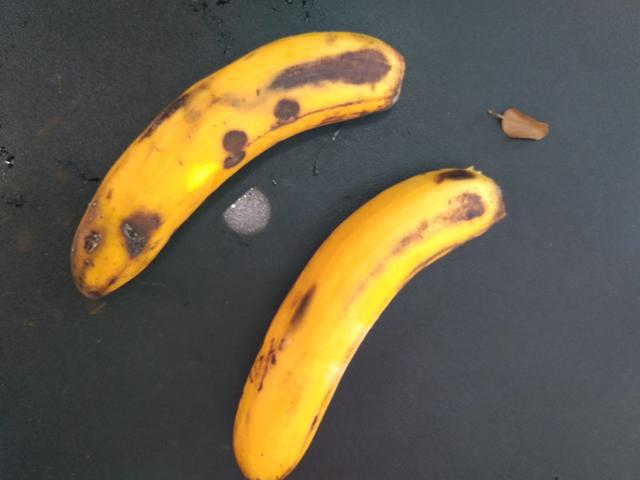overripe: (63, 20, 456, 323)
ripe: (227, 166, 549, 479)
